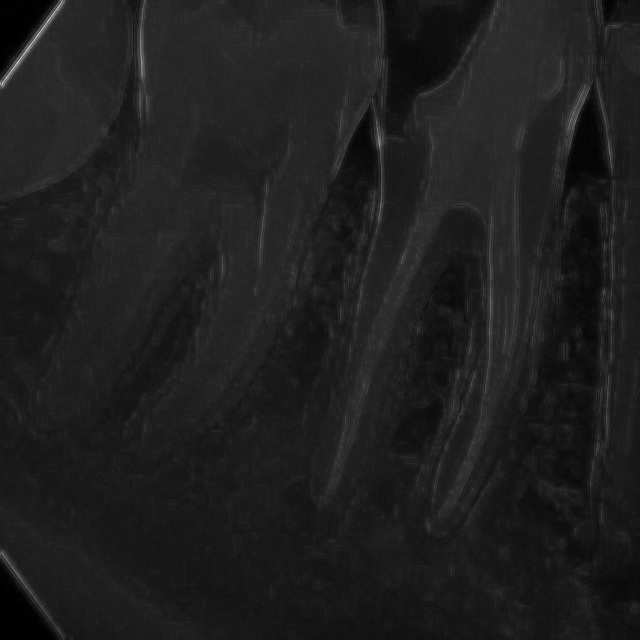Class 0- No endodontic treatment: (286, 47, 586, 586)
cavity: (50, 30, 299, 502)
